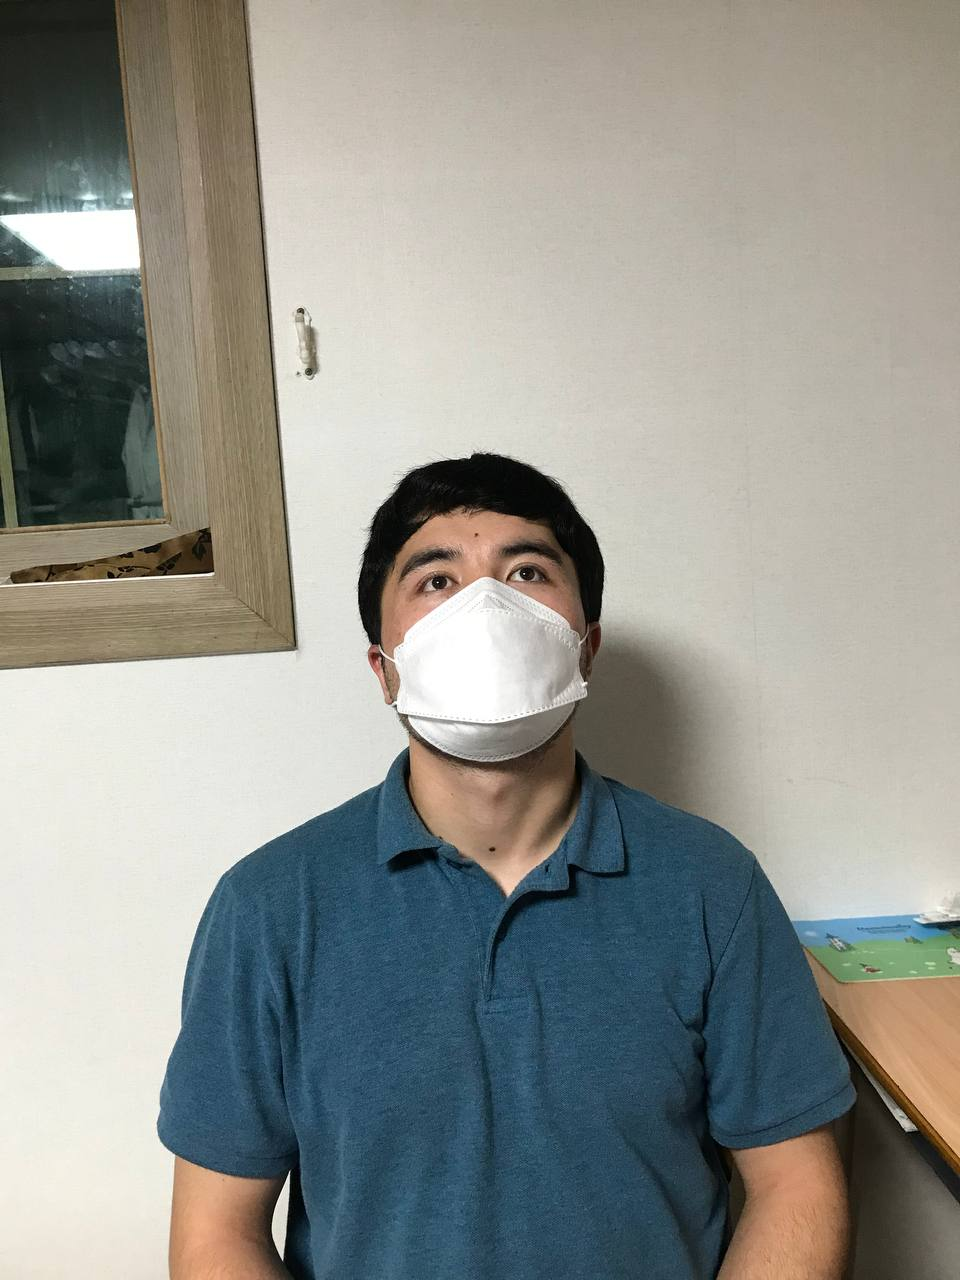Mask: (360, 581, 599, 765)
